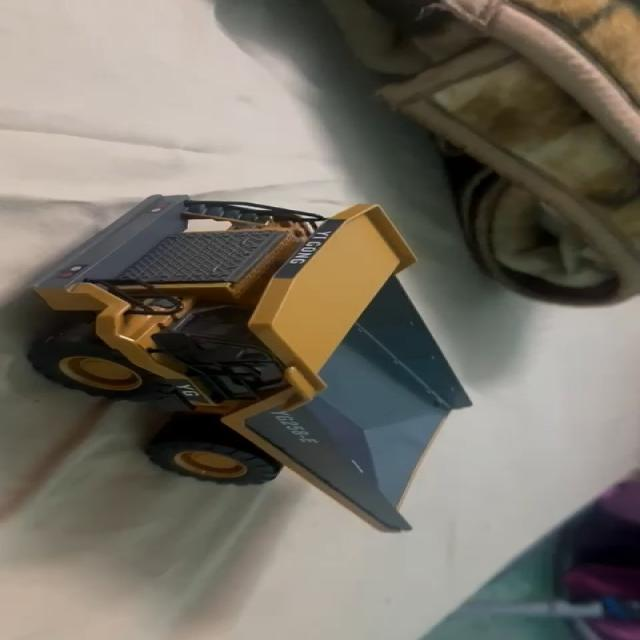dump_truck: (12, 189, 476, 550)
